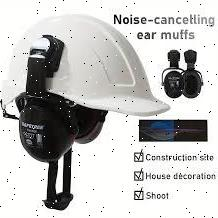Ear_protector: (12, 94, 83, 159), (180, 65, 203, 100), (159, 68, 184, 99)
Hard_hat: (2, 17, 169, 119)
